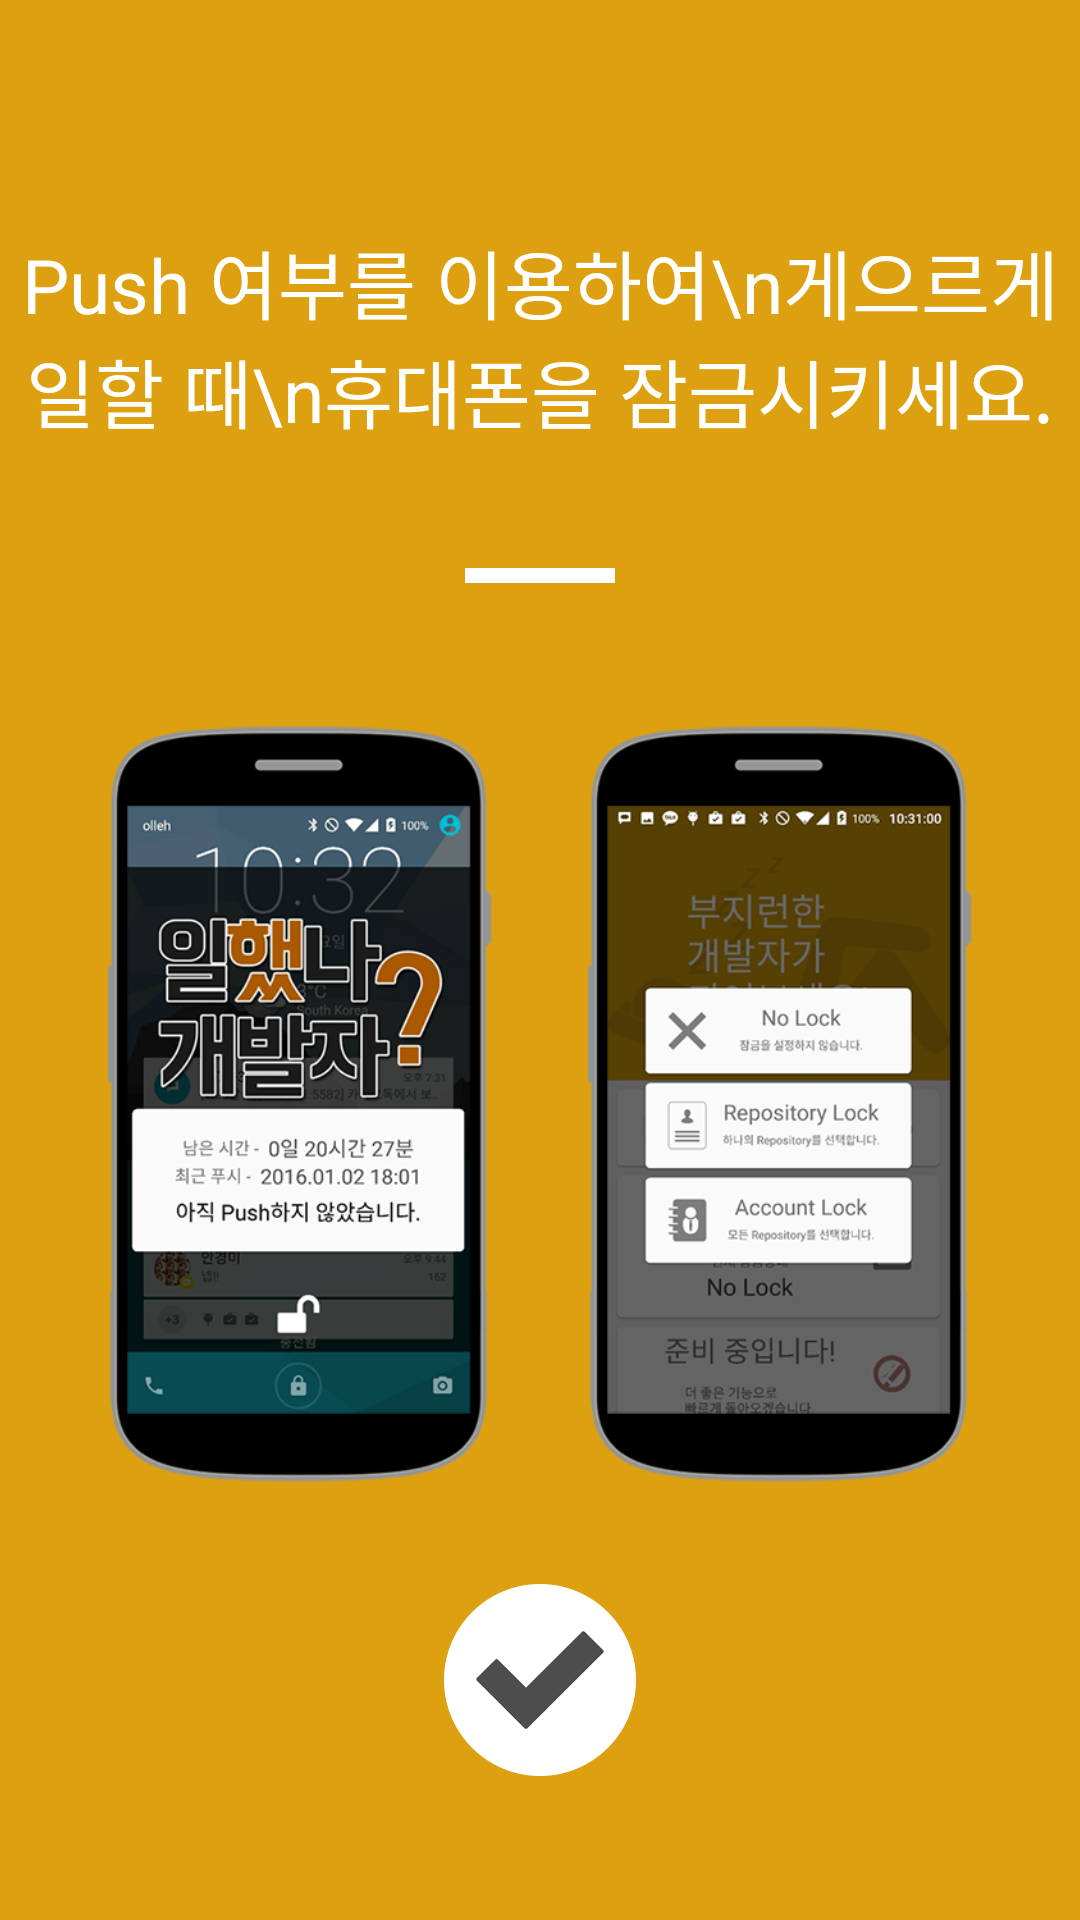

Where to tap for icons on this 1080x1920 app screen, as (x,y):
check: (540,1680)
